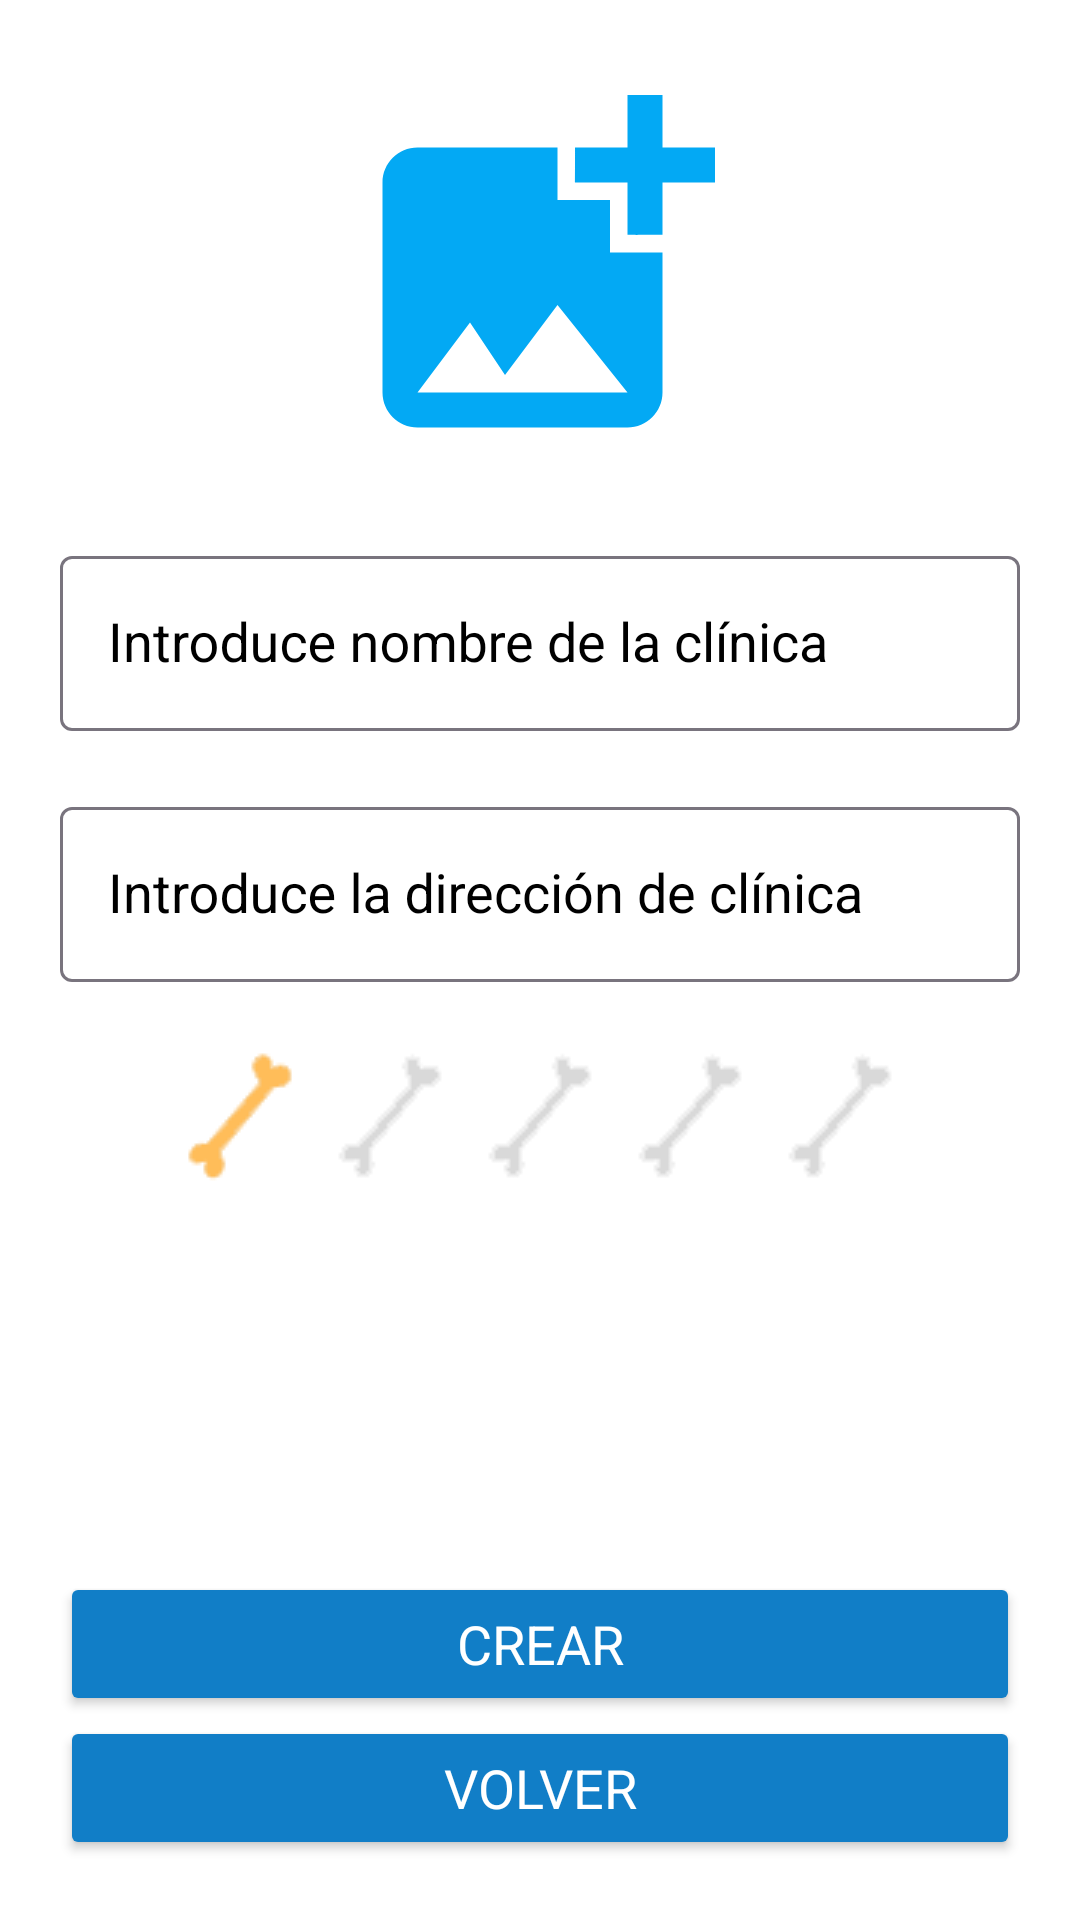

Named icons in this screenshot (1080px x 1920px) and their centers, (x=x, y=y):
photo: (x=548, y=261)
